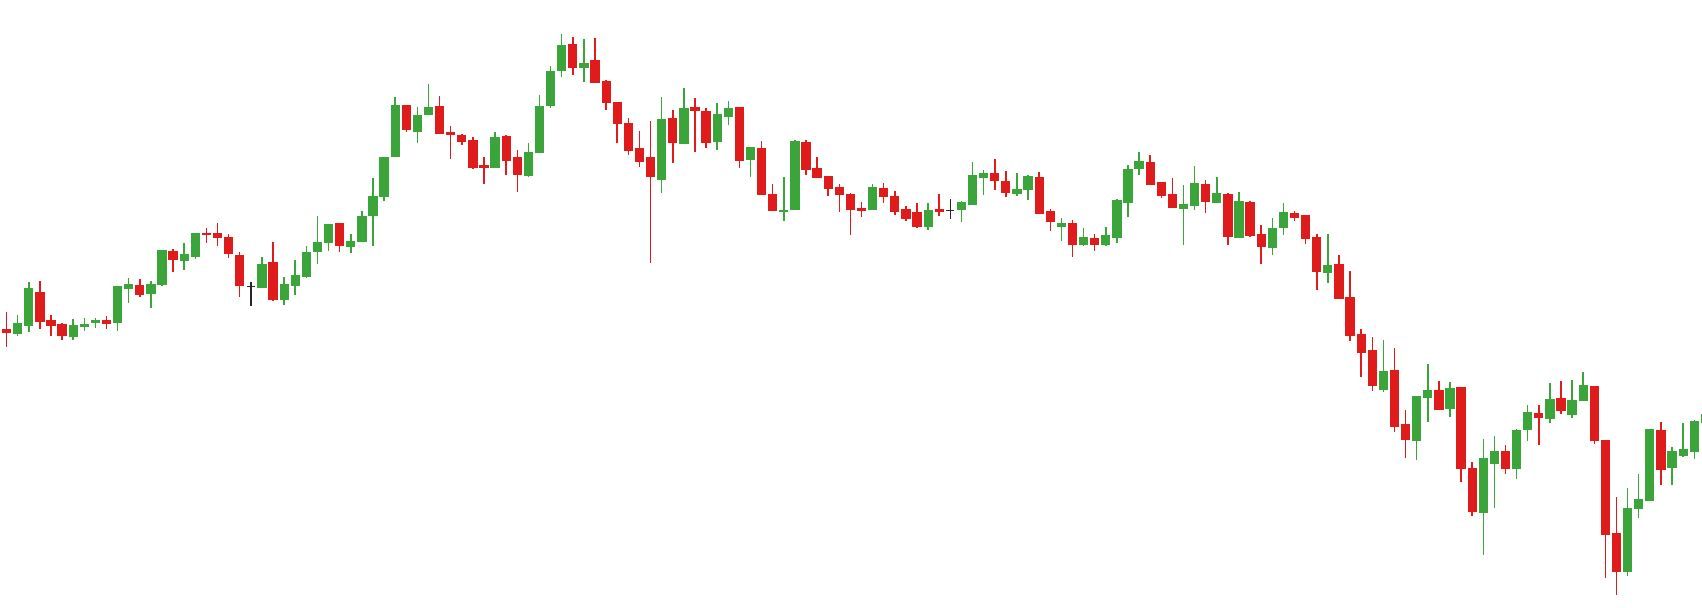buy: (1475, 427, 1634, 598)
sell: (1033, 145, 1159, 216)
